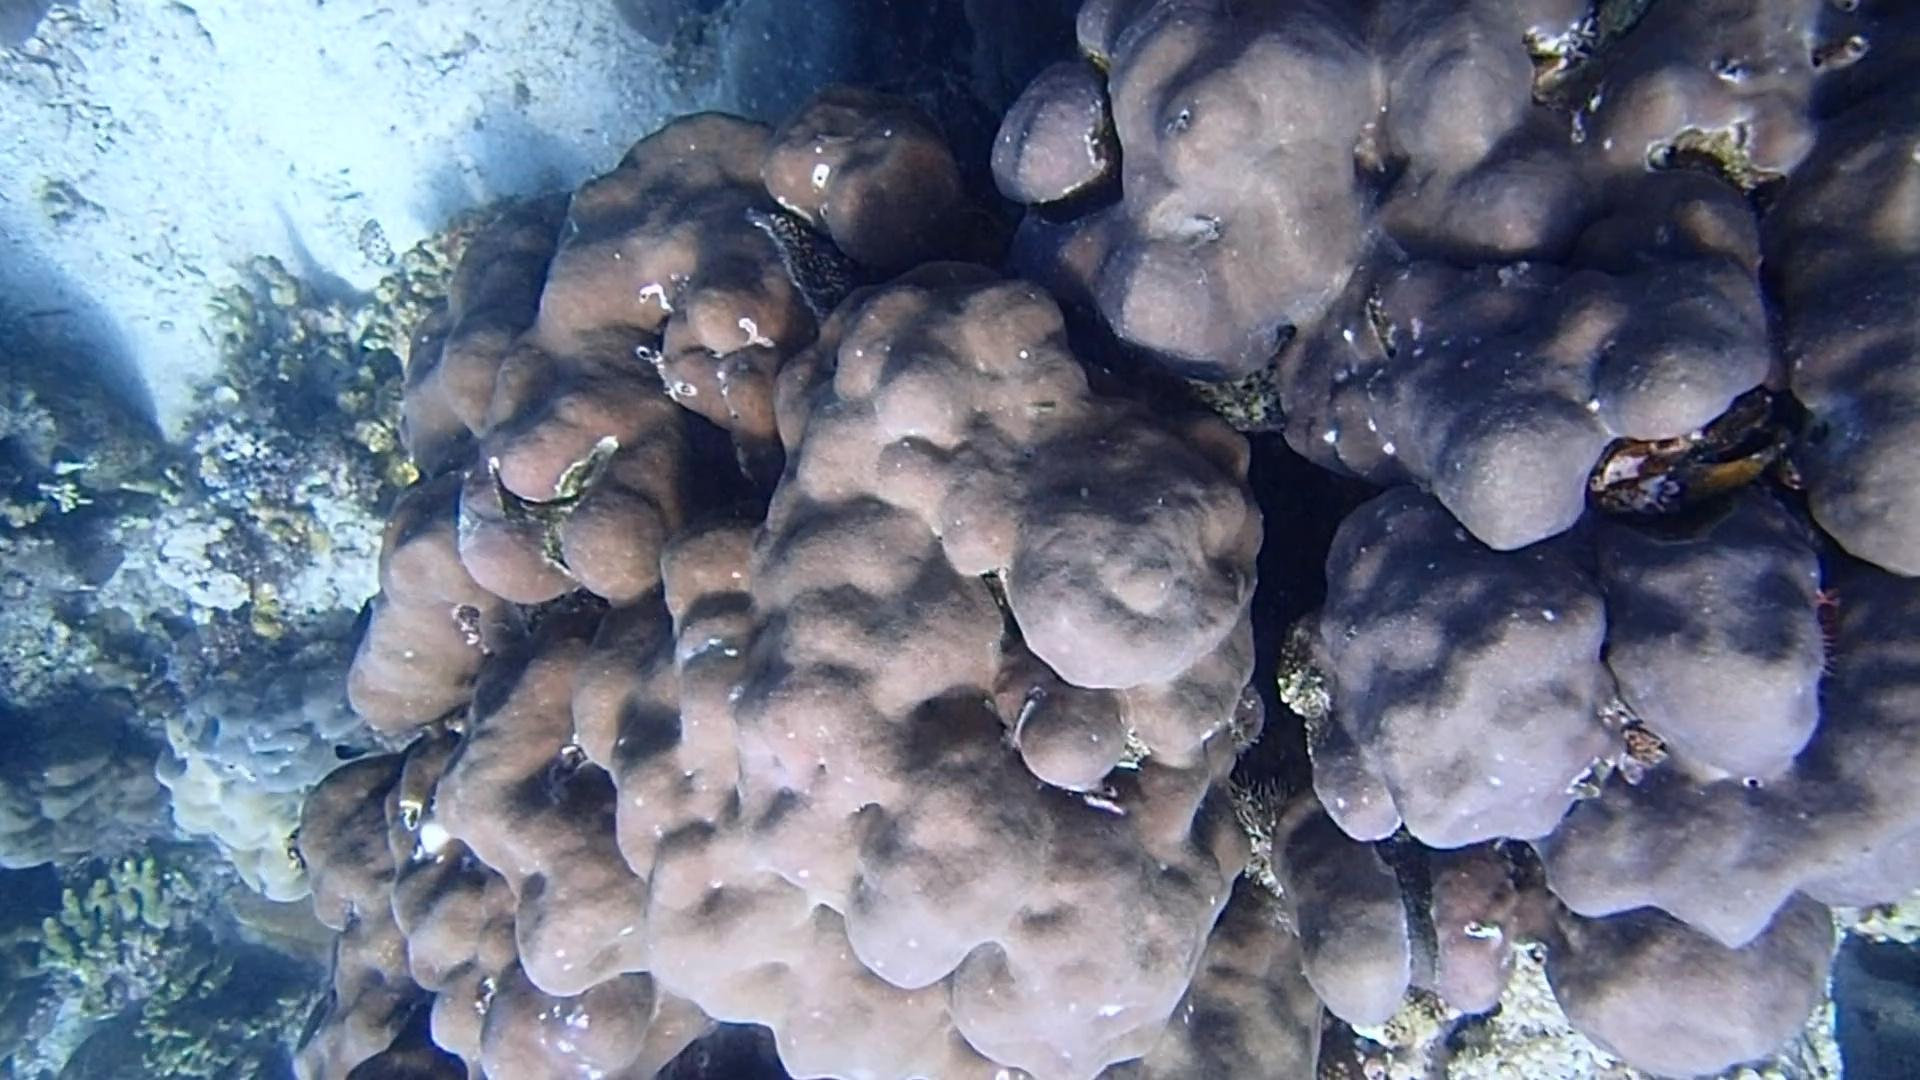Dark Fish: (323, 736, 376, 769)
